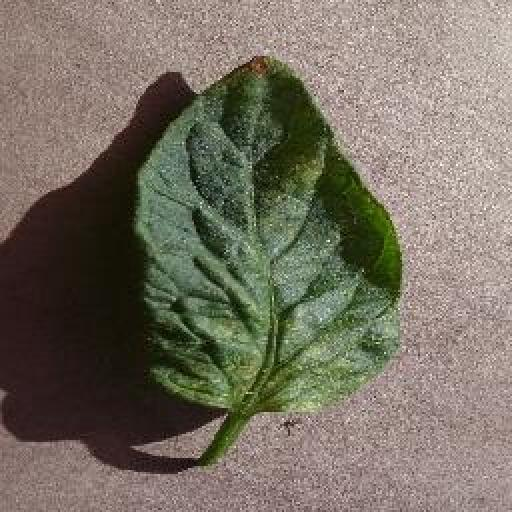Spider Mites: (138, 55, 402, 413)
